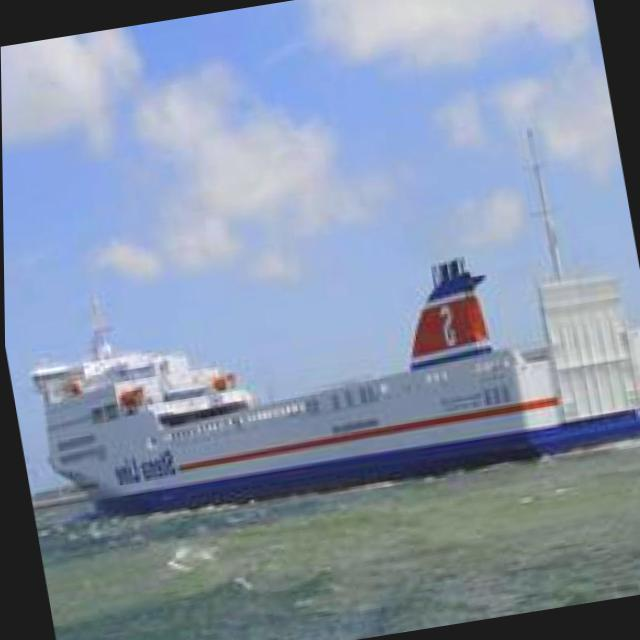ship2: (29, 109, 640, 520)
